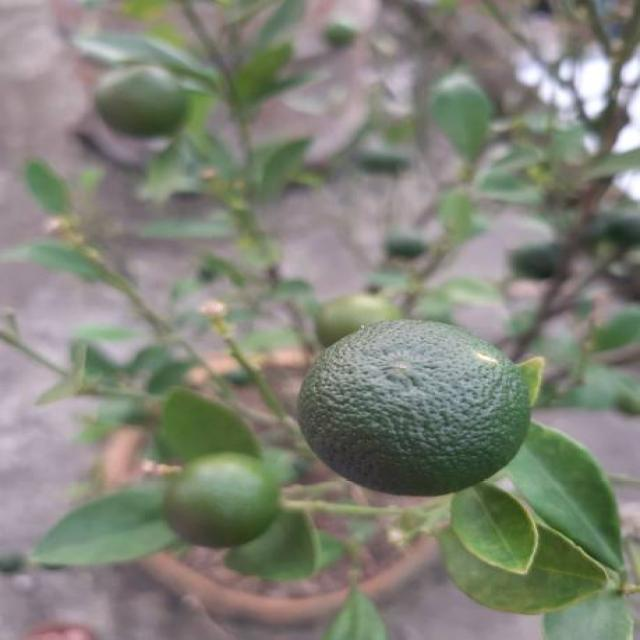Unripe: (296, 314, 534, 496)
